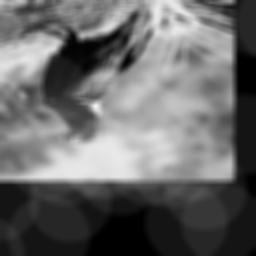Crow: (0, 0, 207, 152)
